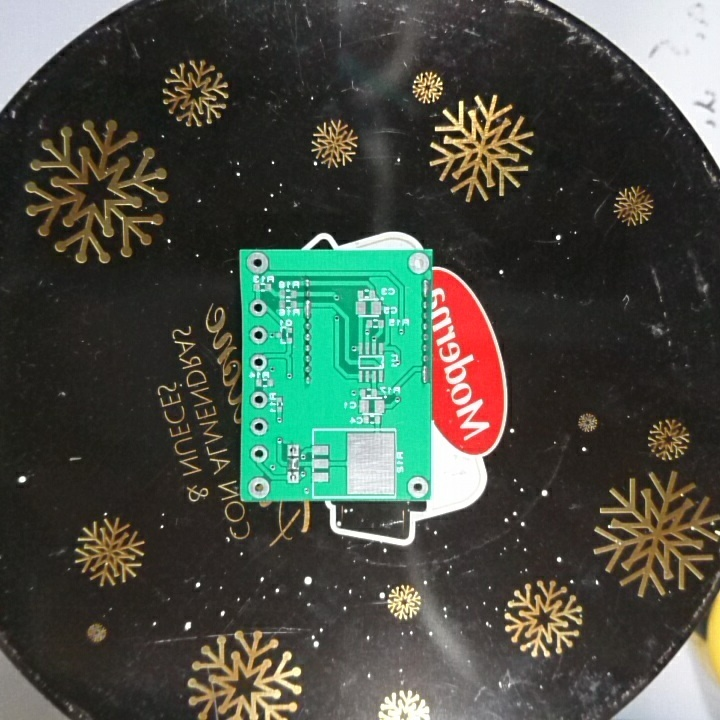F: (245, 474, 273, 501), (244, 251, 272, 276), (406, 249, 431, 275), (404, 474, 429, 497), (246, 415, 270, 437), (246, 389, 269, 410), (247, 298, 270, 319), (247, 351, 268, 371), (248, 324, 270, 343), (249, 445, 271, 461), (284, 470, 302, 487), (285, 442, 303, 458)
P: (419, 275, 432, 300), (300, 298, 314, 320), (418, 366, 431, 386)
